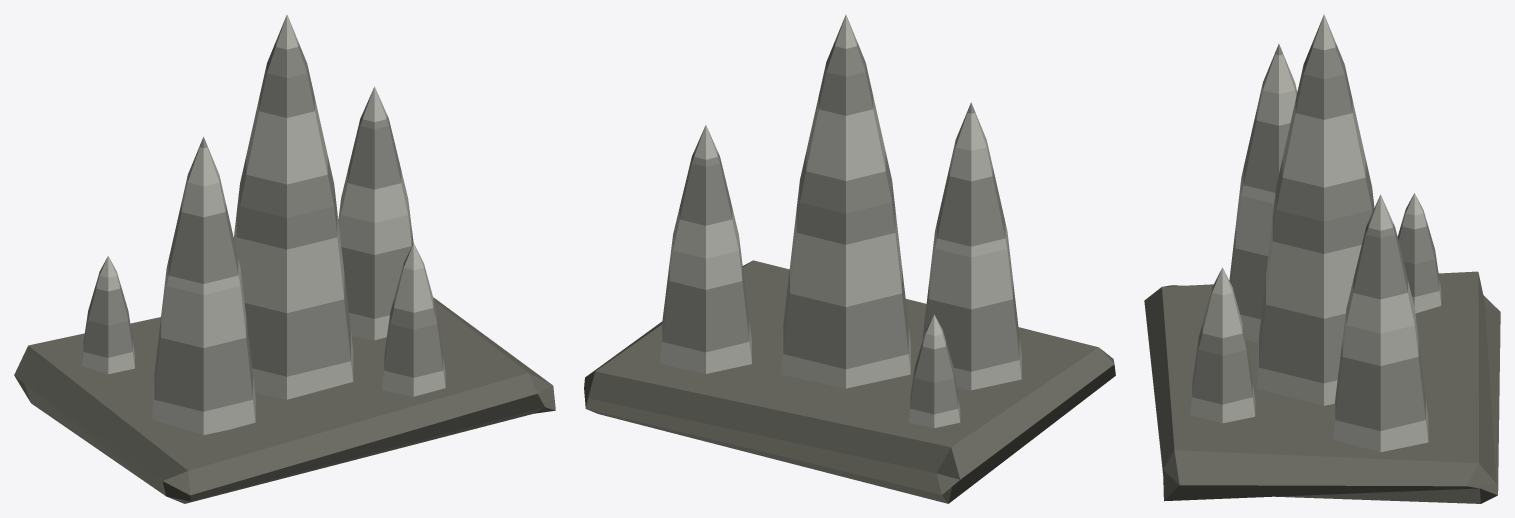
File: Stalagmites.fbx
3 views of the same model, side by side, from view 1: azimuth 30°, elevation 25°; view 2: azimuth 150°, elevation 25°; view 3: azimuth 270°, elevation 25° (orthographic). The views are drawn at different scales.
Visible parts, largest first — view 1: Stalagmites; view 2: Stalagmites; view 3: Stalagmites.
Boxes of the visible parts, x1,y1,x2,y2 form: Stalagmites: (14,14,555,503); Stalagmites: (584,14,1115,503); Stalagmites: (1144,14,1500,503).
Size of the model in its own units: 4.12 by 3.99 by 3.16.
Materials: 1 (1 with a texture image).
